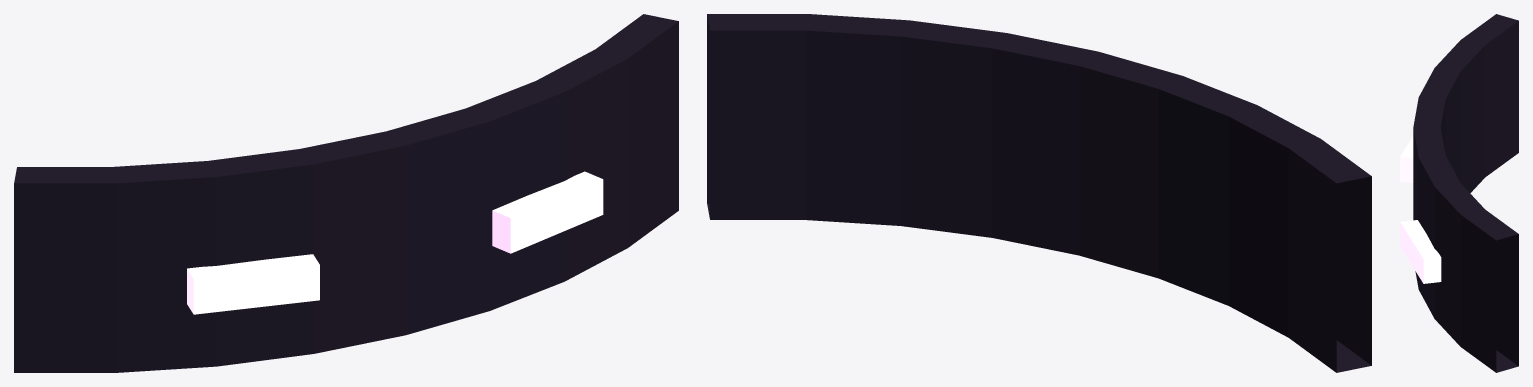
File: assassinMask.glb
3 renders of one model, left to right at view 1: azimuth 30°, elevation 25°; view 2: azimuth 150°, elevation 25°; view 3: azimuth 270°, elevation 25°, orthographic. The views are drawn at different scales.
Visible parts, largest first — view 1: assassinMask; view 2: assassinMask; view 3: assassinMask.
Part boxes in pixels (x1,y1,x2,y2): assassinMask: (14,14,678,372); assassinMask: (707,14,1371,372); assassinMask: (1400,14,1518,372).
Bounding box in the file's own units: 0.5872 × 0.16 × 0.1301.
Materials: 1 (1 with a texture image).
